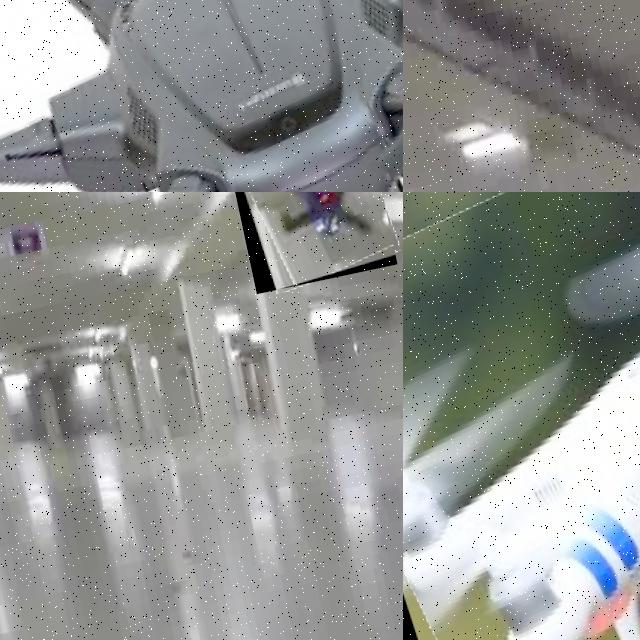drone: (403, 192, 640, 640), (0, 0, 403, 192), (216, 192, 397, 293)
